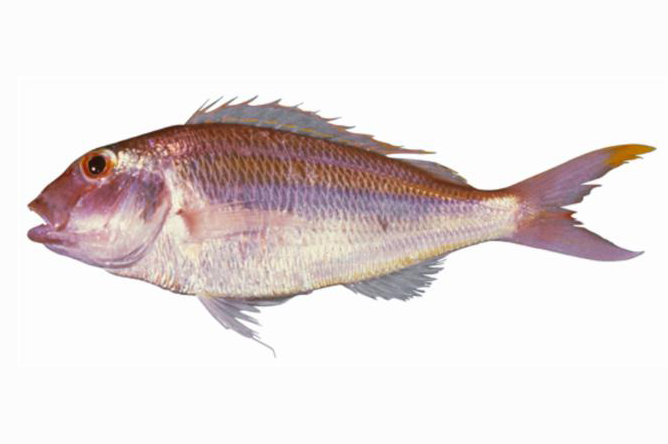Ikan Kerisi: (28, 110, 603, 303)
